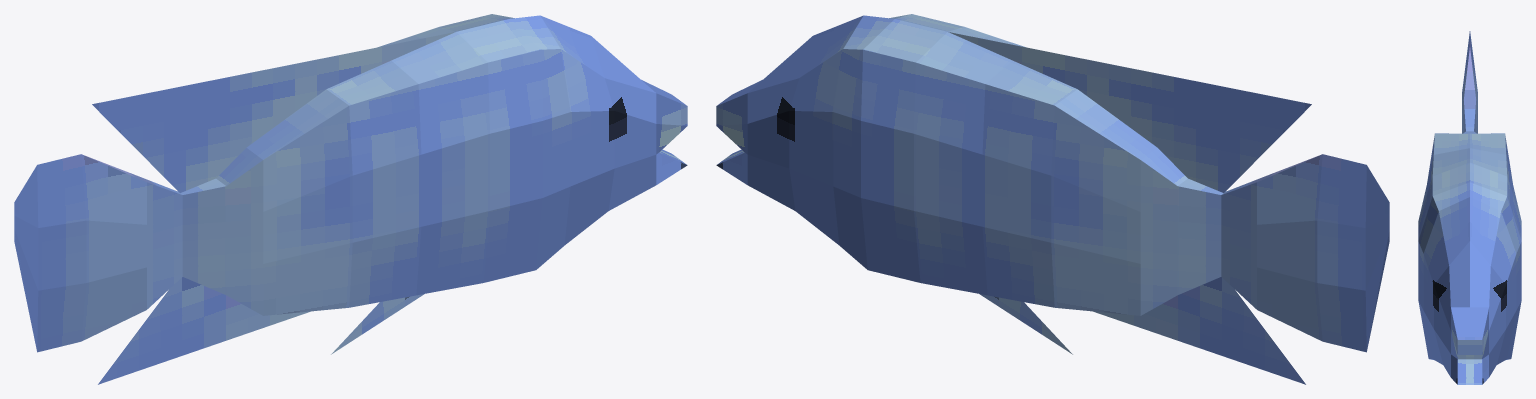
File: fish.glb
3 renders of one model, left to right at view 1: azimuth 30°, elevation 25°; view 2: azimuth 150°, elevation 25°; view 3: azimuth 270°, elevation 25°, orthographic. The views are drawn at different scales.
Visible parts, largest first — view 1: Cube; view 2: Cube; view 3: Cube.
Part boxes in pixels (<box>): Cube: <box>14,14,687,384</box>; Cube: <box>716,14,1389,384</box>; Cube: <box>1418,31,1521,384</box>.
Bounding box in the file's own units: 4.48 × 1.99 × 0.7887.
1 material, 1 textured.
